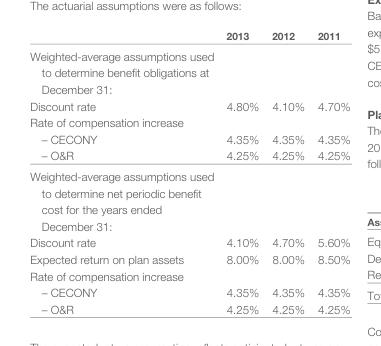table: (29, 29, 349, 315)
table column: (29, 29, 204, 315), (204, 29, 264, 315), (264, 29, 310, 315), (310, 29, 349, 315)
table column header: (29, 29, 349, 45)
table projected row header: (29, 165, 349, 233), (29, 45, 349, 97), (29, 113, 349, 130), (29, 266, 349, 283)
table row: (29, 165, 349, 233), (29, 45, 349, 97), (29, 146, 349, 165), (29, 113, 349, 130), (29, 233, 349, 250), (29, 266, 349, 283), (29, 283, 349, 300), (29, 29, 349, 45), (29, 97, 349, 113), (29, 130, 349, 146), (29, 250, 349, 266), (29, 300, 349, 315)
